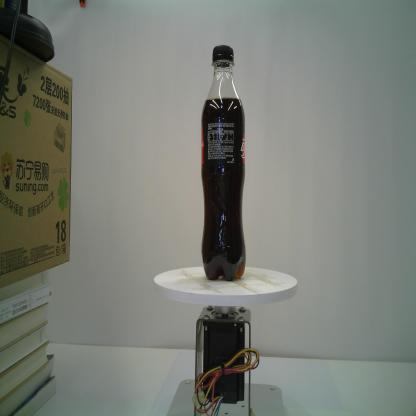Drink: (199, 43, 248, 282)
